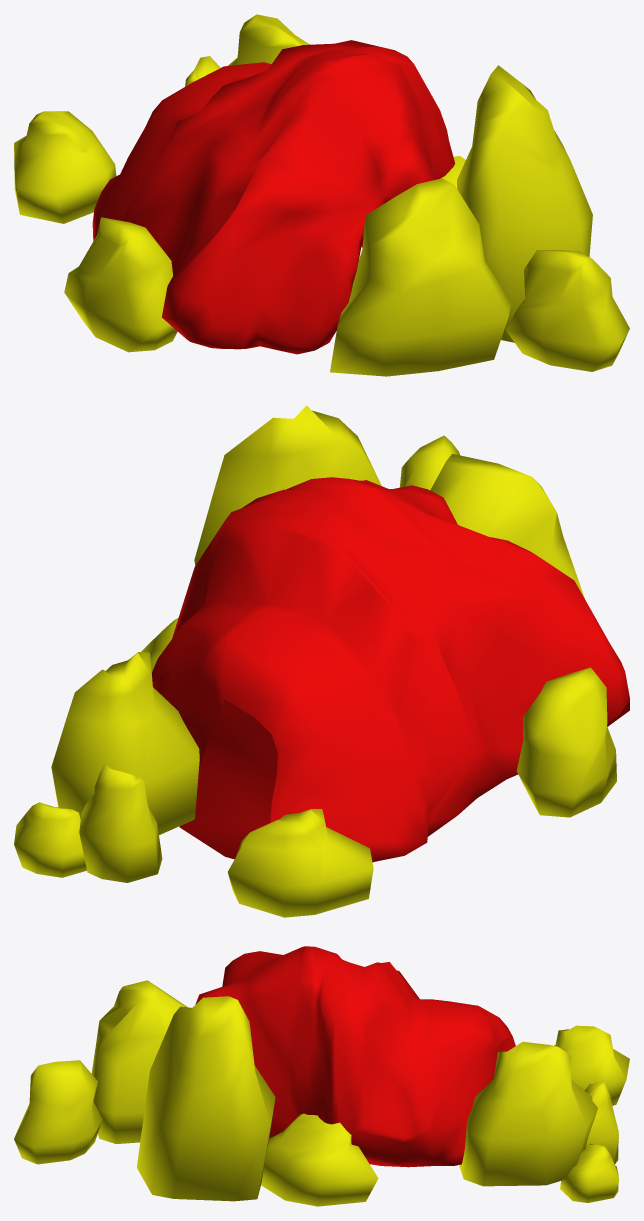
The model's file is secretArea-SP.fbx.
The picture shows the model from 3 angles, top to bottom: view 1: azimuth 30°, elevation 25°; view 2: azimuth 150°, elevation 25°; view 3: azimuth 270°, elevation 25°; orthographic projection. The views are drawn at different scales.
Visible parts, largest first — view 1: cave, door, pCube12, pCube11, pCube3, pCube2, pCube13; view 2: cave, pCube13, pCube2, pCube3, pCube12, door, pCube14, pCube15, pCube11; view 3: cave, pCube12, pCube13, door, pCube16, pCube11, pCube2, pCube15, pCube14.
Boxes of the visible parts, x1,y1,x2,y2 form: cave: [92, 40, 454, 354]; door: [330, 178, 511, 376]; pCube12: [457, 65, 592, 342]; pCube11: [506, 250, 629, 371]; pCube3: [64, 217, 177, 352]; pCube2: [14, 111, 116, 223]; pCube13: [228, 14, 309, 65]; cave: [151, 477, 629, 862]; pCube13: [51, 652, 199, 834]; pCube2: [228, 809, 373, 917]; pCube3: [516, 667, 616, 817]; pCube12: [194, 405, 381, 565]; door: [430, 454, 584, 598]; pCube14: [79, 764, 162, 882]; pCube15: [14, 802, 86, 877]; pCube11: [400, 435, 459, 490]; cave: [195, 946, 515, 1167]; pCube12: [137, 996, 275, 1201]; pCube13: [459, 1041, 597, 1186]; door: [91, 980, 187, 1143]; pCube16: [261, 1113, 378, 1206]; pCube11: [14, 1060, 102, 1164]; pCube2: [554, 1025, 629, 1105]; pCube15: [560, 1143, 618, 1202]; pCube14: [584, 1082, 618, 1164].
Size of the model in its own units: 14.11 by 7.65 by 21.36.
